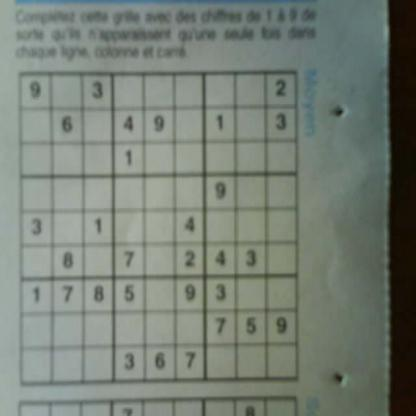sudoku: (15, 64, 302, 391)
